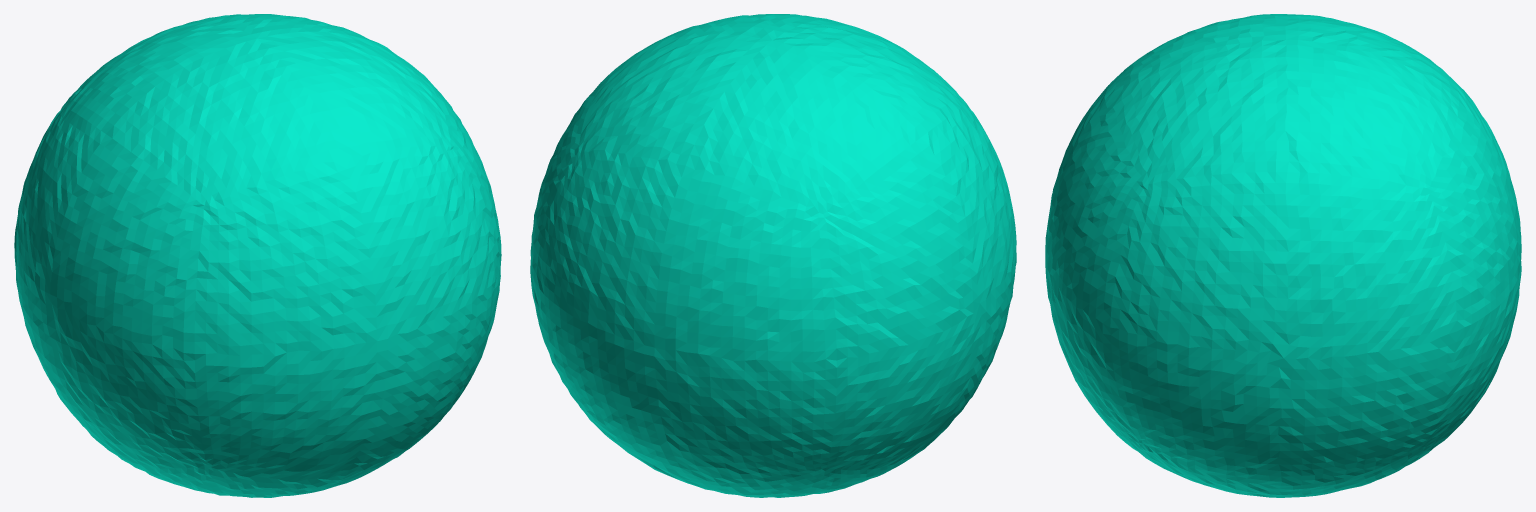
File: Sea37.fbx
The picture shows the model from 3 angles, left to right: view 1: azimuth 30°, elevation 25°; view 2: azimuth 150°, elevation 25°; view 3: azimuth 270°, elevation 25°; orthographic projection.
Visible parts, largest first — view 1: pCube1; view 2: pCube1; view 3: pCube1.
Boxes of the visible parts, x1,y1,x2,y2 form: pCube1: (14, 14, 501, 497); pCube1: (530, 14, 1016, 497); pCube1: (1045, 14, 1521, 497).
Size of the model in its own units: 40.18 by 40.17 by 40.14.
